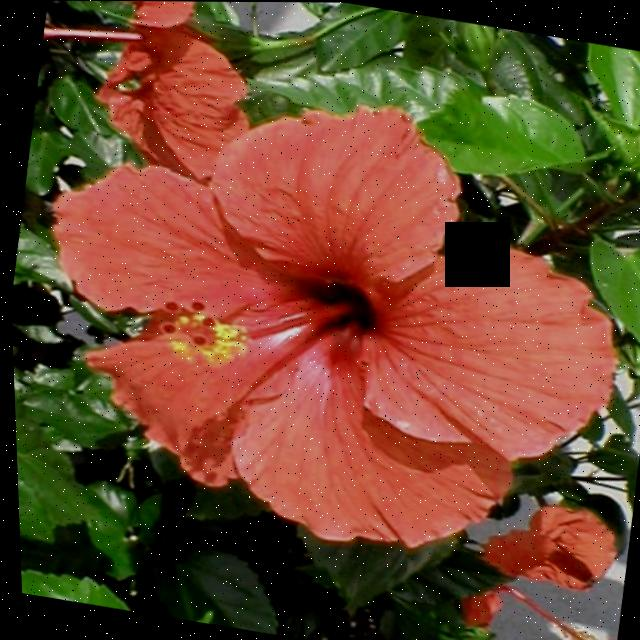hibiscus: (1, 49, 640, 626), (55, 12, 326, 221), (377, 454, 636, 640)
